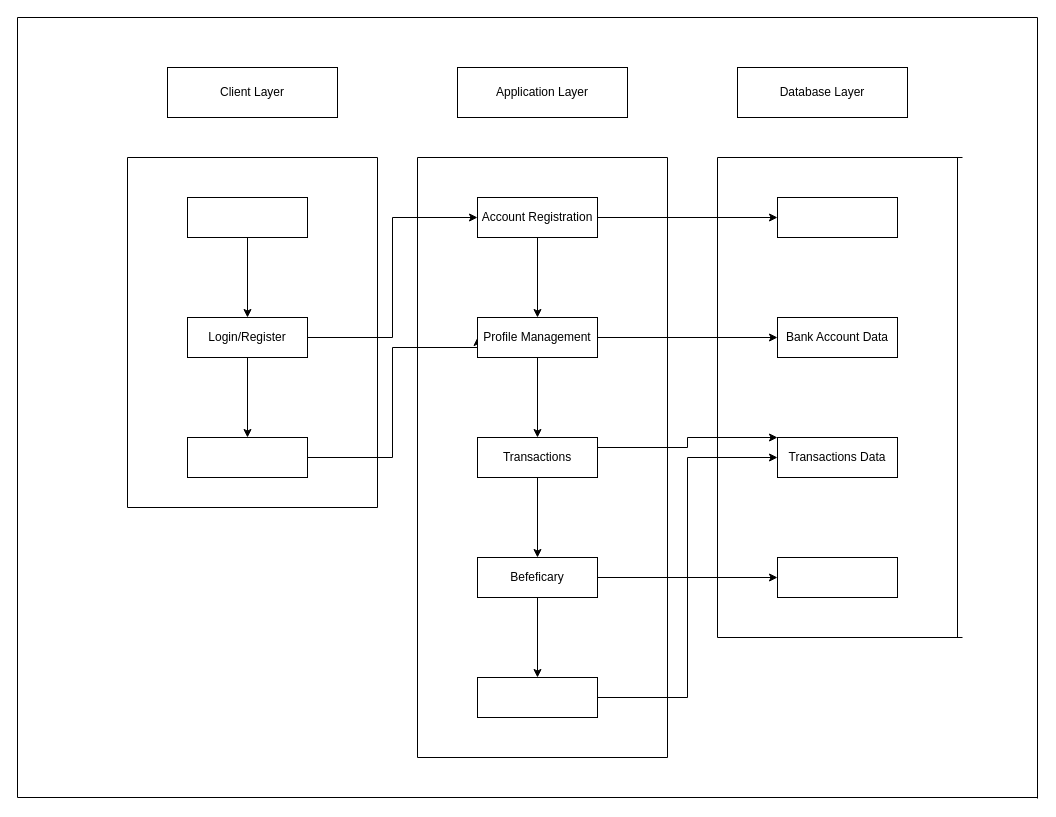
Some shapes in this 1056 by 817 pixel diagram are drawn without their labels. Here are the shapes that lost their labels. From the top down, the centre of each, then its label:
(247,217): Website
(837,217): Customer Data
(247,457): Dashboard
(837,577): Beneficiary Data
(537,697): Statement
